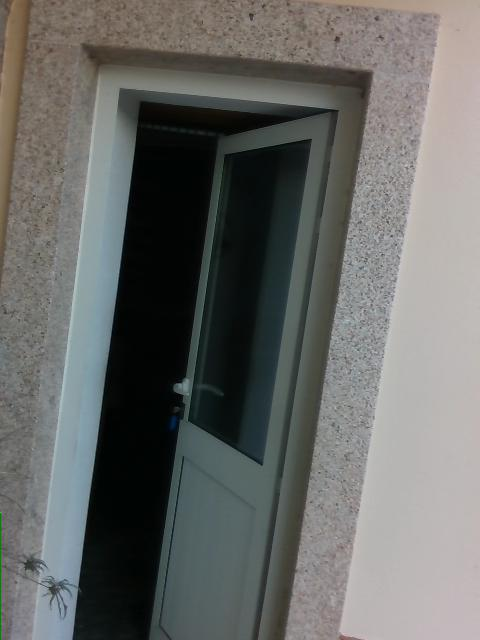semi_door: (30, 55, 372, 639)
